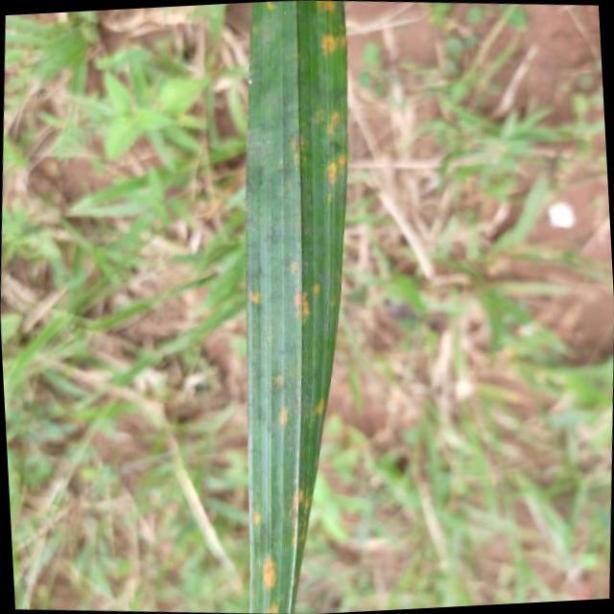Kalium: (246, 0, 350, 614)
